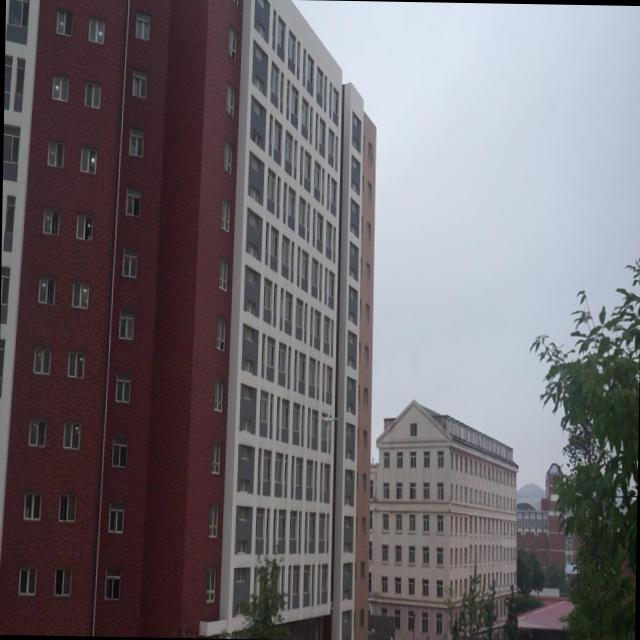drone: (318, 408, 338, 428)
